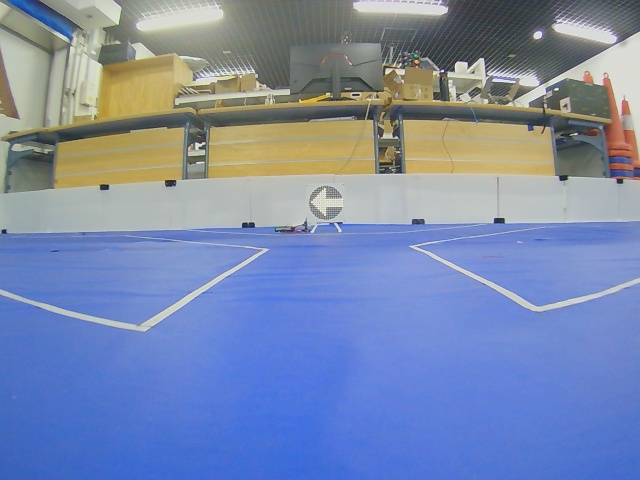left_yellow: (309, 186, 344, 220)
